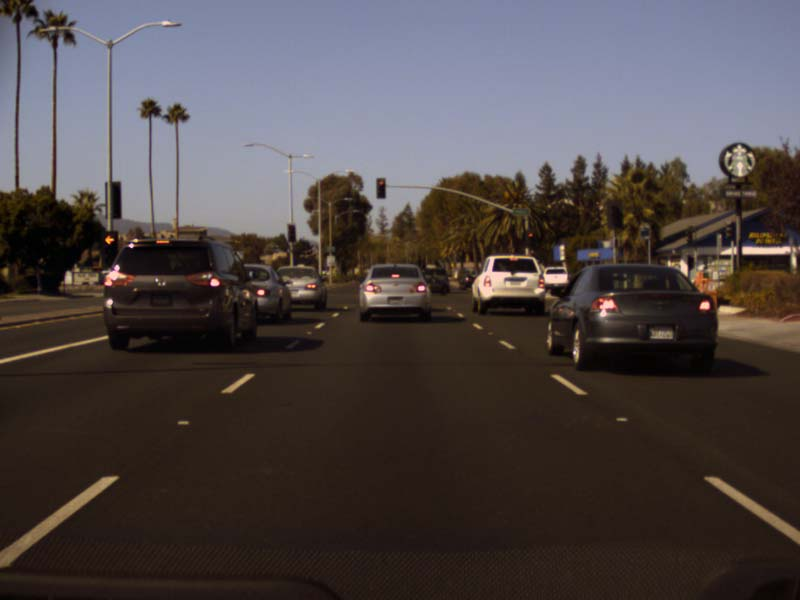Red: (100, 232, 117, 266), (376, 179, 384, 197), (527, 230, 533, 246)
